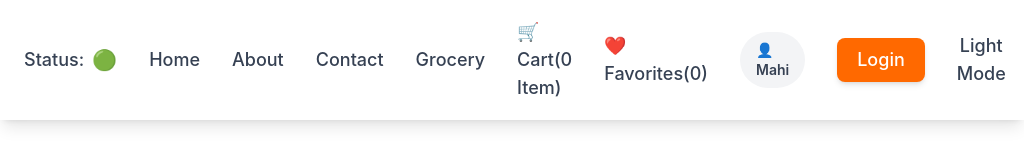
Test: Should toggle the theme
Click the button "Light Mode" at (981, 60), box left=957, top=32, right=1006, bottom=88
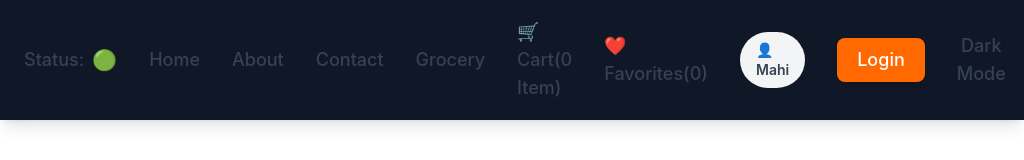
Expected: the button "Dark Mode" is shown
Click the button "Dark Mode" at (981, 60), box left=957, top=32, right=1006, bottom=88
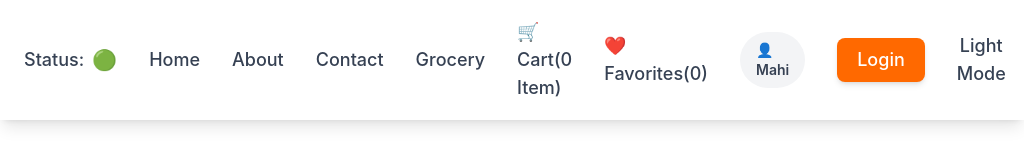
Expected: the button "Light Mode" is shown, left=957, top=32, right=1006, bottom=88
